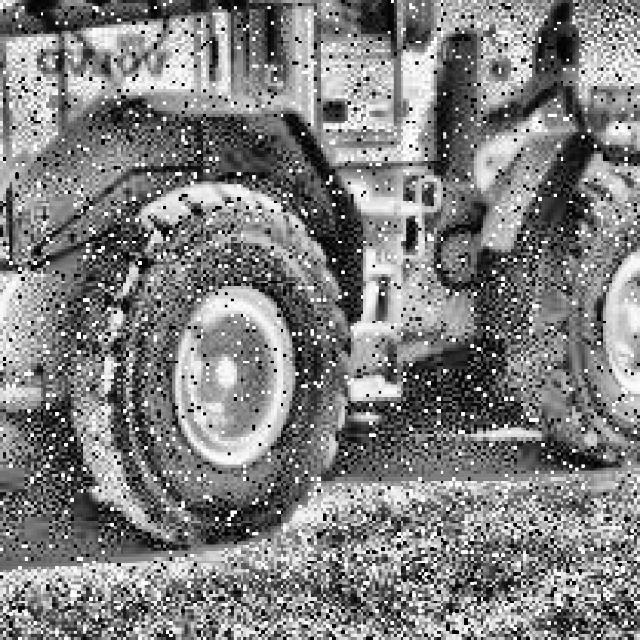buldozerpayloadergrader: (0, 0, 640, 542)
